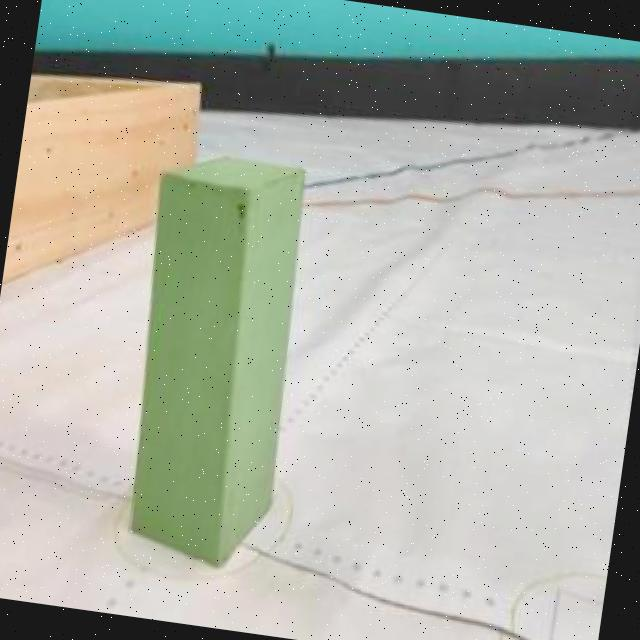greenbox: (106, 145, 320, 576)
